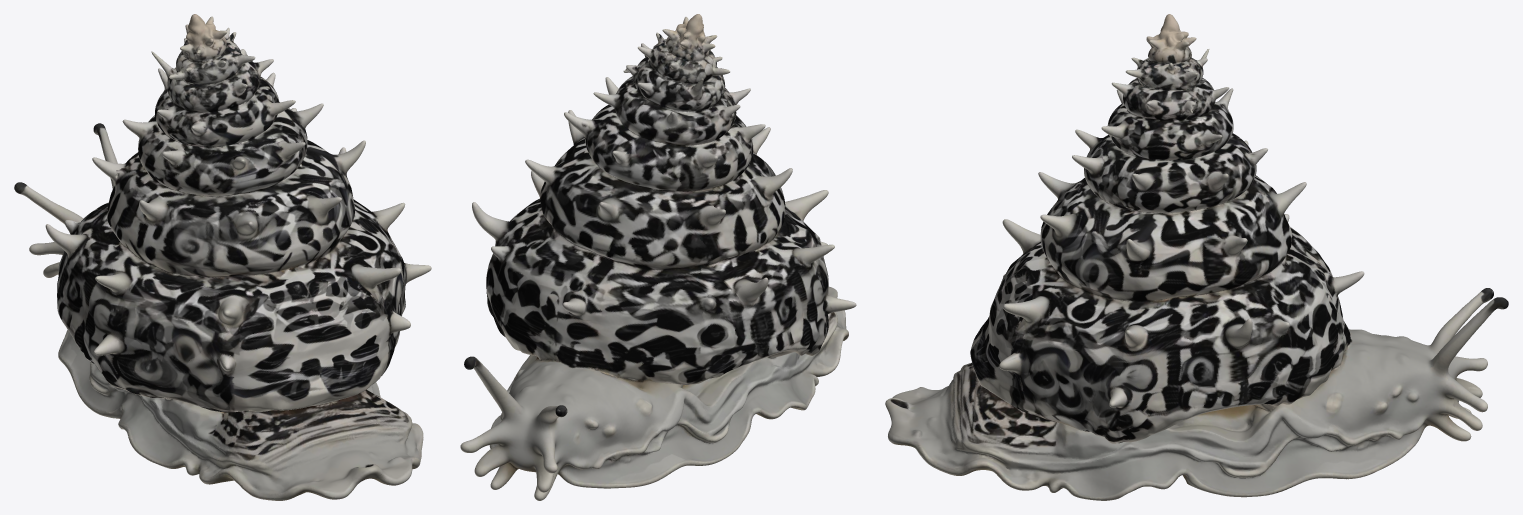
Rendered from pyr_a.glb.
3 views of the same model, side by side, from view 1: azimuth 30°, elevation 25°; view 2: azimuth 150°, elevation 25°; view 3: azimuth 270°, elevation 25° (orthographic). The views are drawn at different scales.
Parts seen in each view (by area): view 1: tripo_node_659bcbec-3bbc-44ab-a3c4-04ab2b5dbf50; view 2: tripo_node_659bcbec-3bbc-44ab-a3c4-04ab2b5dbf50; view 3: tripo_node_659bcbec-3bbc-44ab-a3c4-04ab2b5dbf50.
Part boxes in pixels (<box>): tripo_node_659bcbec-3bbc-44ab-a3c4-04ab2b5dbf50: <box>14,14,431,500</box>; tripo_node_659bcbec-3bbc-44ab-a3c4-04ab2b5dbf50: <box>460,14,856,500</box>; tripo_node_659bcbec-3bbc-44ab-a3c4-04ab2b5dbf50: <box>885,14,1508,500</box>.
Bounding box in the file's own units: 0.6375 × 0.7306 × 1.
1 material, 1 textured.
